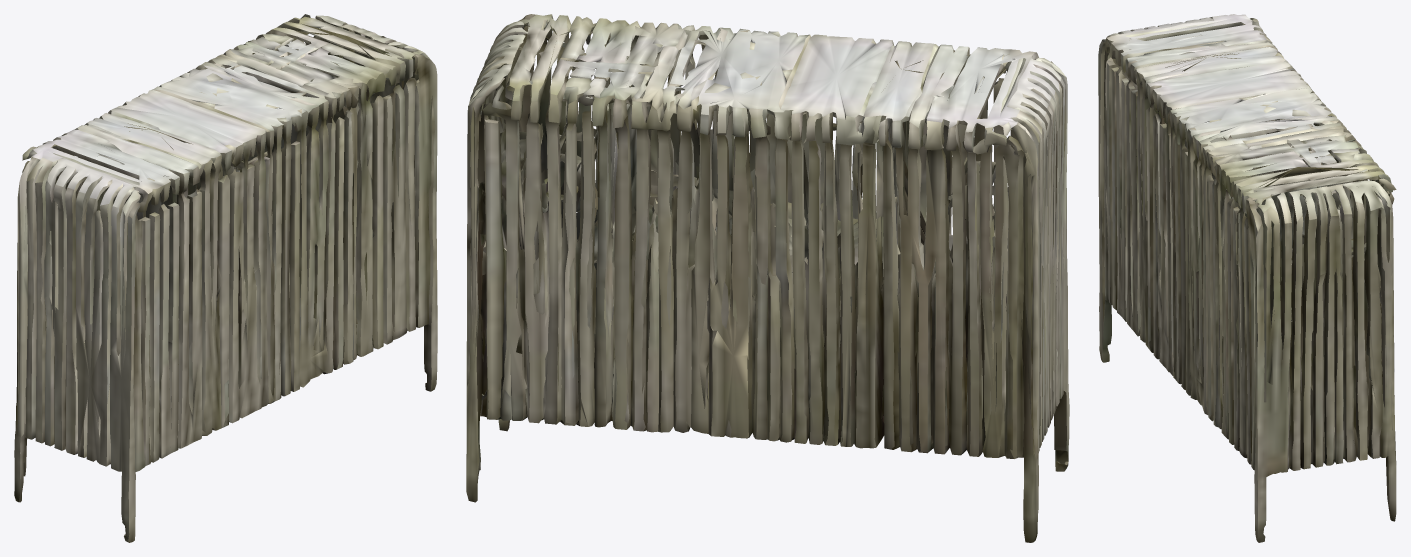
The picture shows the model from 3 angles, left to right: view 1: azimuth 30°, elevation 25°; view 2: azimuth 150°, elevation 25°; view 3: azimuth 270°, elevation 25°; orthographic projection. The views are drawn at different scales.
Parts seen in each view (by area): view 1: world; view 2: world; view 3: world.
Part boxes in pixels (x1=…): world: x1=14, y1=14, x2=437, y2=542; world: x1=466, y1=14, x2=1069, y2=542; world: x1=1098, y1=14, x2=1396, y2=542.
Size of the model in its own units: 0.5588 by 0.4374 by 0.3427.
1 material, 1 textured.
